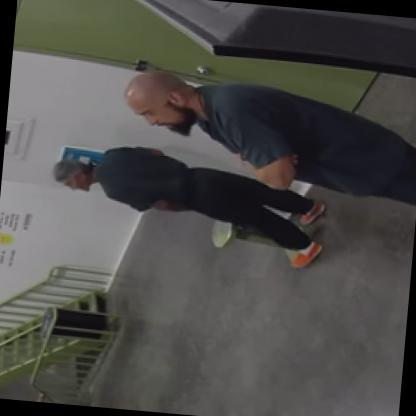Human Body: (114, 63, 415, 220), (44, 148, 326, 274)
